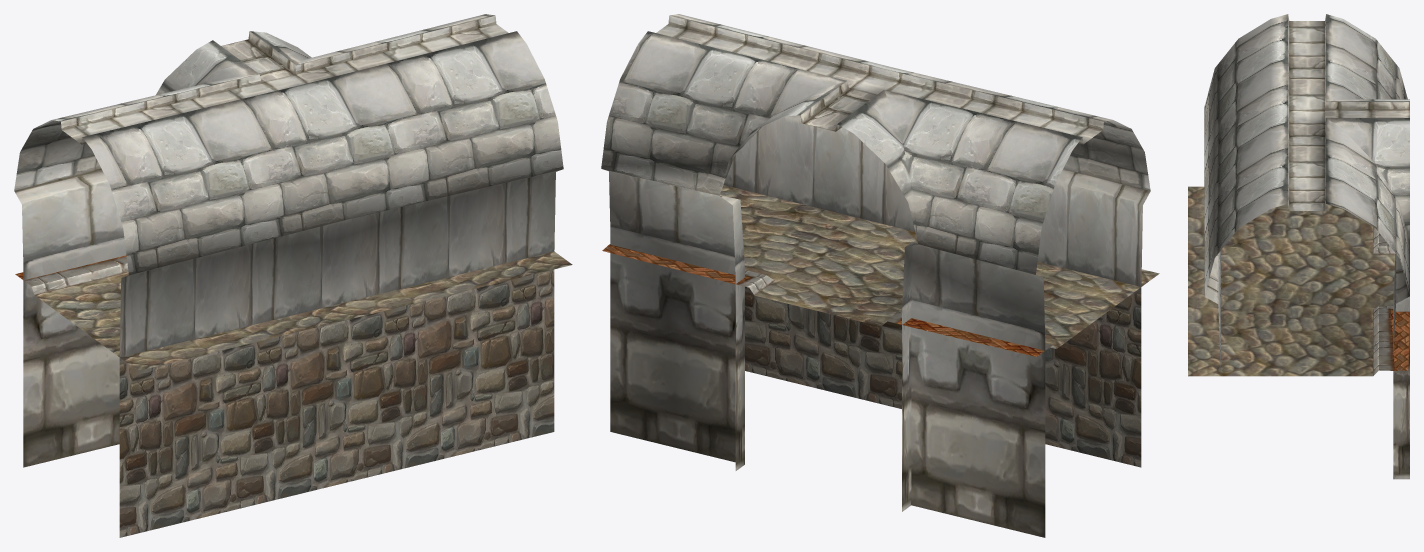
Rendered from stormwind_037.fbx.
The picture shows the model from 3 angles, left to right: view 1: azimuth 30°, elevation 25°; view 2: azimuth 150°, elevation 25°; view 3: azimuth 270°, elevation 25°; orthographic projection. The views are drawn at different scales.
Parts seen in each view (by area): view 1: stormwind_037_4, stormwind_037_3, stormwind_037_11, stormwind_037_46, stormwind_037_5, stormwind_037_12; view 2: stormwind_037_11, stormwind_037_4, stormwind_037_3, stormwind_037_46, stormwind_037_5, stormwind_037_12; view 3: stormwind_037_4, stormwind_037_46, stormwind_037_5, stormwind_037_11, stormwind_037_12.
Part boxes in pixels (x1,y1,x2,y2): stormwind_037_4: (14,14,563,274); stormwind_037_3: (119,269,554,537); stormwind_037_11: (14,168,561,467); stormwind_037_46: (35,251,572,370); stormwind_037_5: (61,15,508,144); stormwind_037_12: (15,255,128,294); stormwind_037_11: (603,115,1150,537); stormwind_037_4: (601,14,1150,274); stormwind_037_3: (745,286,1141,467); stormwind_037_46: (720,185,1159,348); stormwind_037_5: (656,15,1103,144); stormwind_037_12: (602,244,1055,356); stormwind_037_4: (1204,14,1409,296); stormwind_037_46: (1188,186,1395,376); stormwind_037_5: (1288,16,1409,210); stormwind_037_11: (1204,251,1409,479); stormwind_037_12: (1373,227,1409,375).
Bounding box in the file's own units: 22.08 × 18.07 × 10.87.
